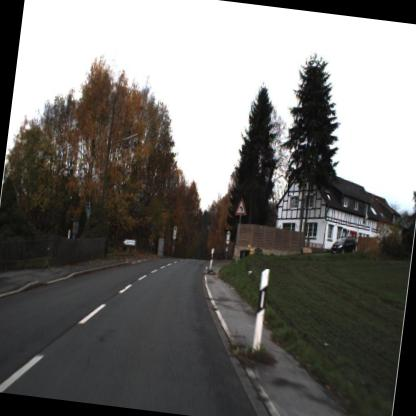danger: (233, 196, 249, 219)
